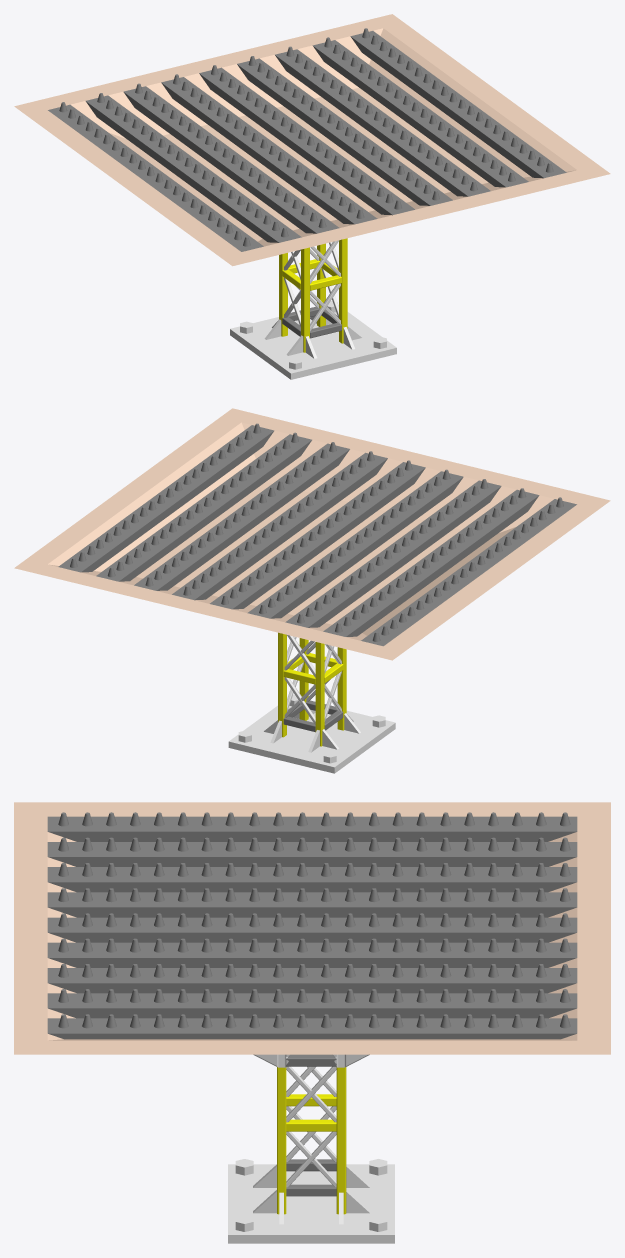
The model's file is anchor.glb.
The picture shows the model from 3 angles, top to bottom: view 1: azimuth 30°, elevation 25°; view 2: azimuth 150°, elevation 25°; view 3: azimuth 270°, elevation 25°; orthographic projection. The views are drawn at different scales.
Visible parts, largest first — view 1: anchor; view 2: anchor; view 3: anchor.
Boxes of the visible parts, x1=… form: anchor: x1=14, y1=14, x2=610, y2=379; anchor: x1=14, y1=408, x2=610, y2=773; anchor: x1=14, y1=802, x2=610, y2=1243.
Size of the model in its own units: 5 by 2.68 by 5.
